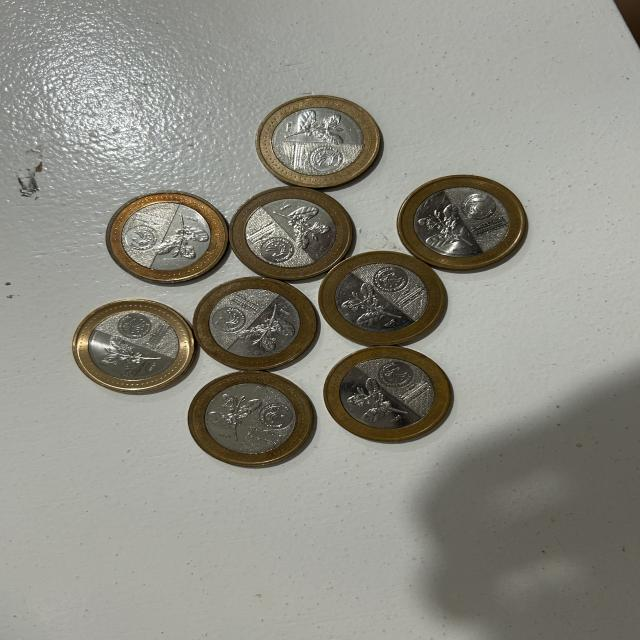20_New_Back: (143, 218, 212, 274), (91, 332, 162, 382)
